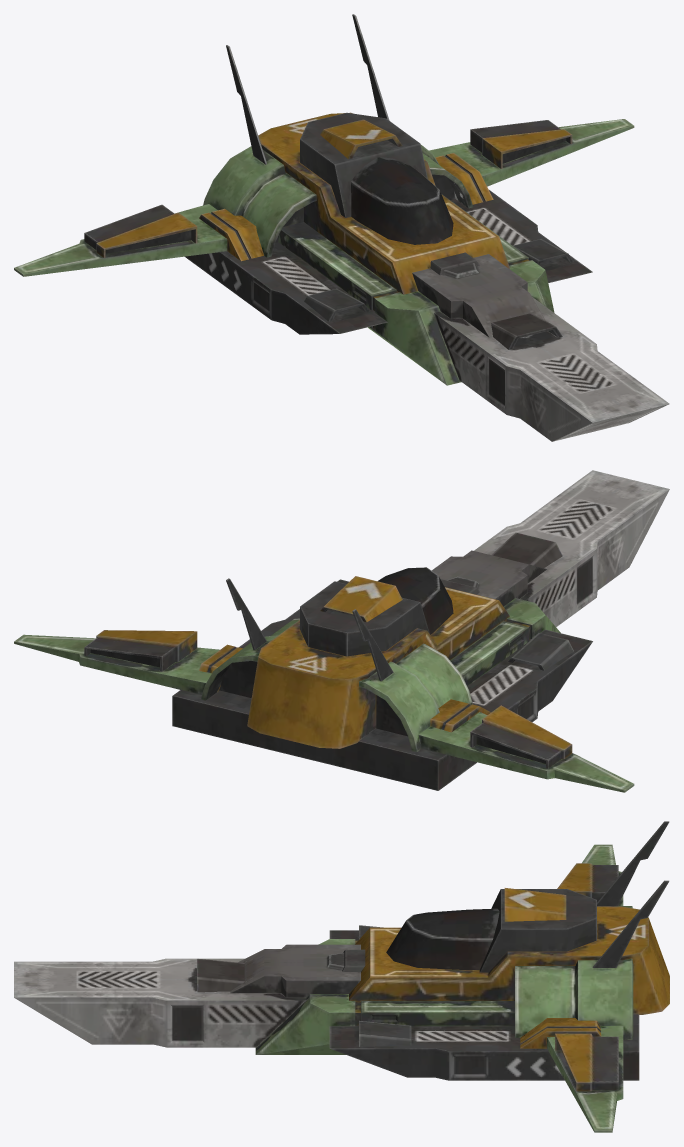
File: Challenger.glb
3 views of the same model, one above another, from view 1: azimuth 30°, elevation 25°; view 2: azimuth 150°, elevation 25°; view 3: azimuth 270°, elevation 25° (orthographic). The views are drawn at different scales.
Visible parts, largest first — view 1: Challenger; view 2: Challenger; view 3: Challenger.
Part boxes in pixels (x1,y1,x2,y2): Challenger: (14, 14, 669, 441); Challenger: (14, 470, 669, 792); Challenger: (14, 821, 669, 1132).
Size of the model in its own units: 10.5 by 3.02 by 10.18.
1 material, 1 textured.
